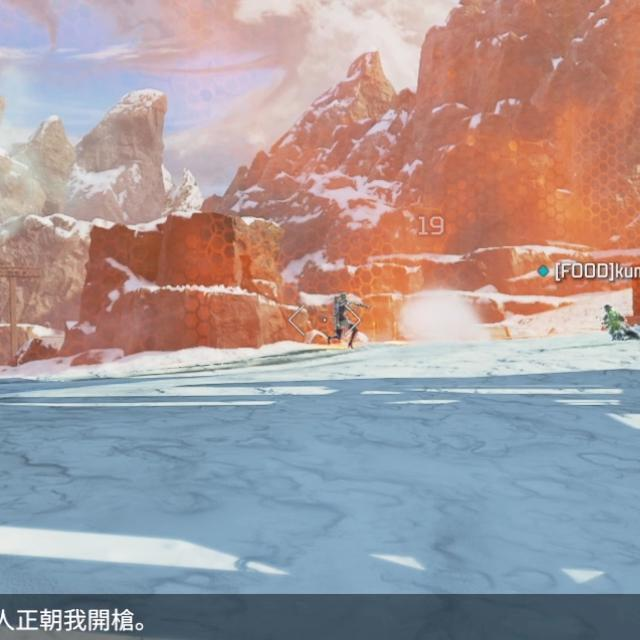avatar: (325, 292, 359, 349), (600, 302, 640, 342)
